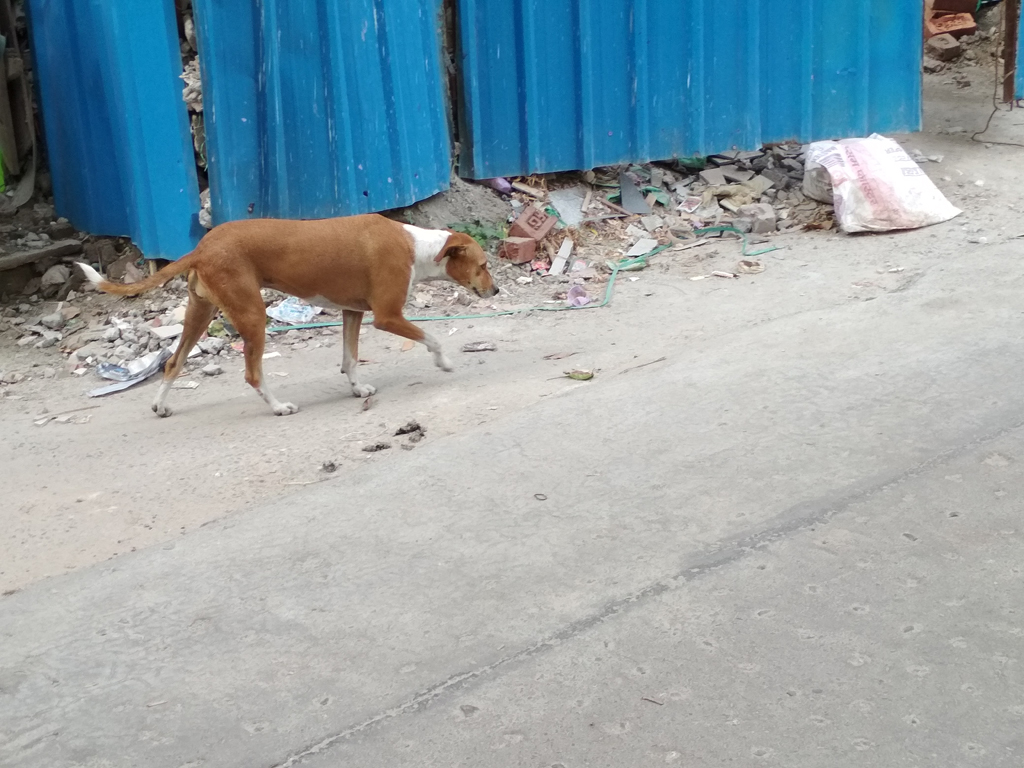dog: (73, 212, 500, 416)
